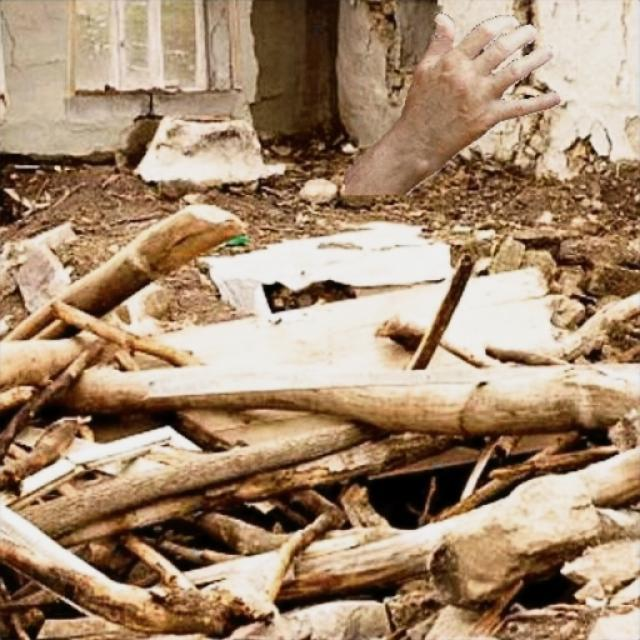Person in Rubble: (344, 12, 560, 194)
